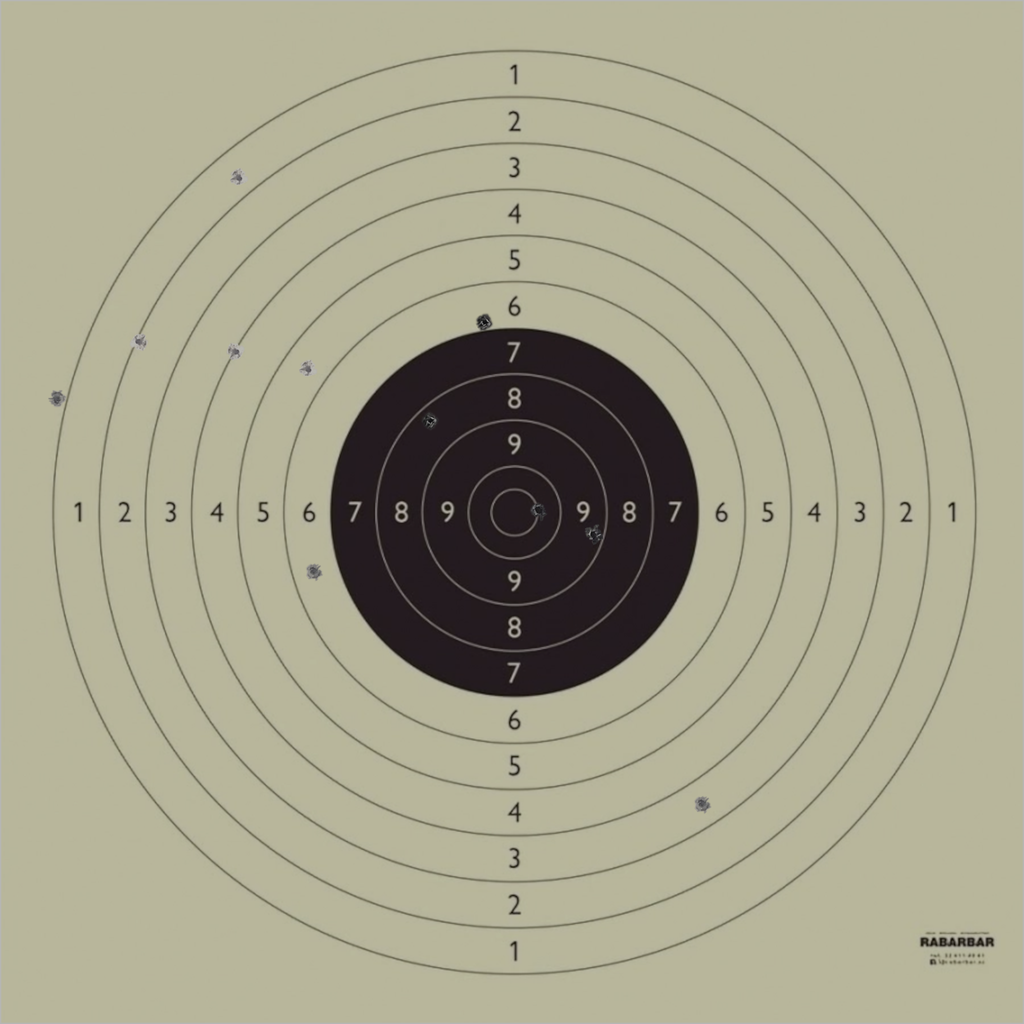0 punktow: (48, 390, 66, 408)
1 punkt: (229, 169, 248, 187)
10 punktow: (529, 501, 548, 520)
2 punkty: (130, 332, 148, 351)
3 punkty: (693, 795, 711, 813)
4 punkty: (226, 343, 245, 361)
5 punktow: (299, 360, 317, 378)
6 punktow: (304, 562, 323, 580)
7 punktow: (476, 313, 494, 332)
8 punktow: (422, 411, 440, 430)
9 punktow: (585, 526, 603, 544)
